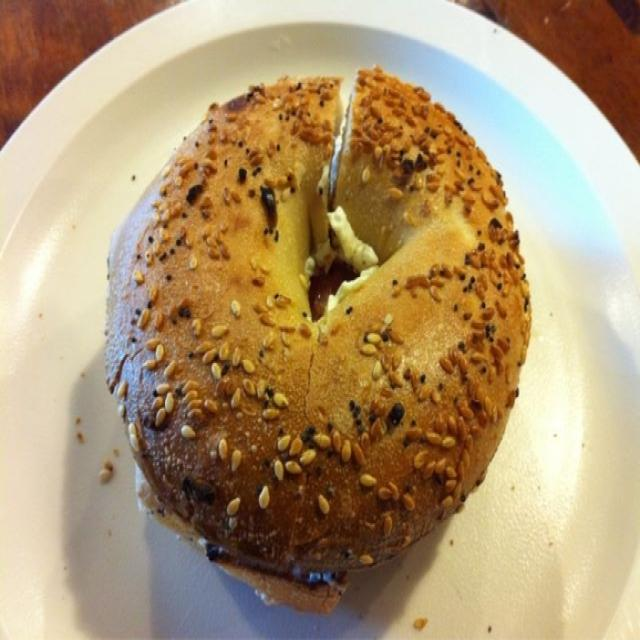面包点心: (59, 58, 564, 594)
